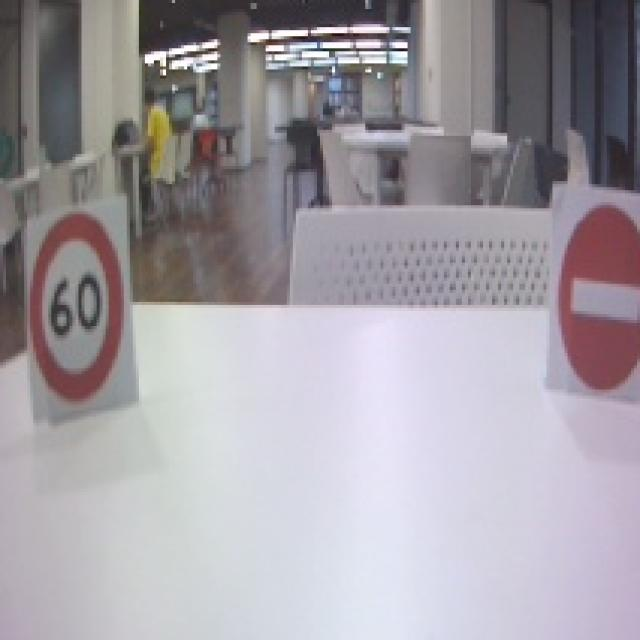DoNotEnterSign: (555, 202, 640, 390)
